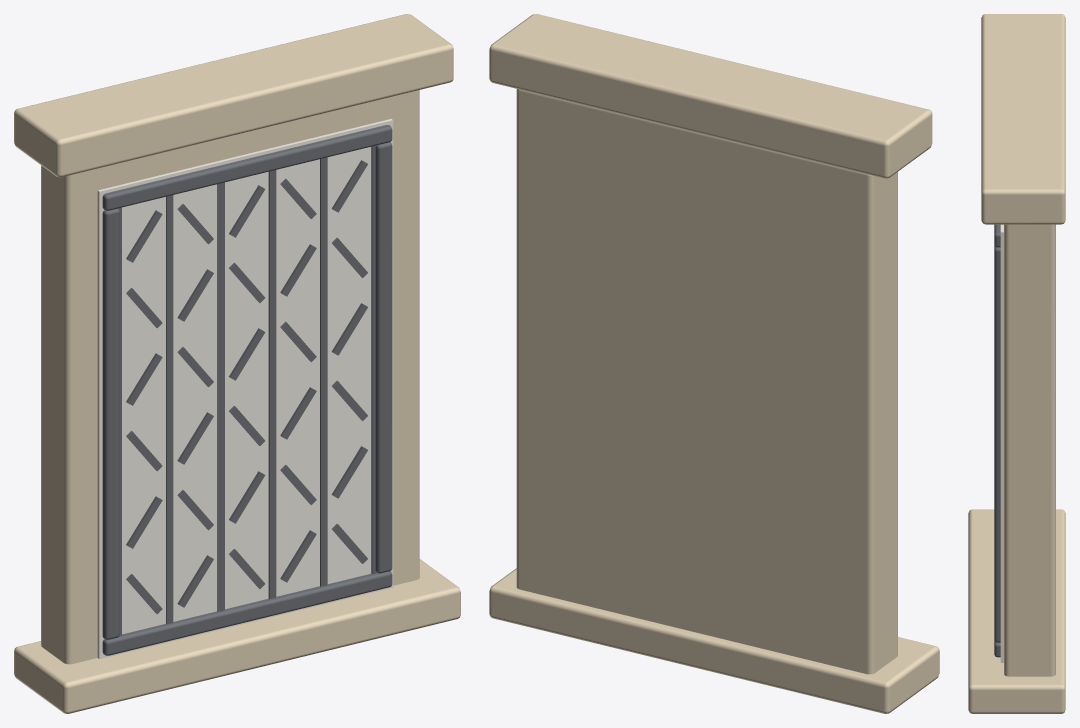
Rendered from desert-mosque-and-madrasa-courtyard-iron-window-grille-17aa98e2.glb.
3 renders of one model, left to right at view 1: azimuth 30°, elevation 25°; view 2: azimuth 150°, elevation 25°; view 3: azimuth 270°, elevation 25°, orthographic. The views are drawn at different scales.
Parts seen in each view (by area): view 1: iron-window-grille; view 2: iron-window-grille; view 3: iron-window-grille.
Part boxes in pixels (x1,y1,x2,y2): iron-window-grille: (14, 14, 460, 713); iron-window-grille: (489, 14, 939, 713); iron-window-grille: (968, 14, 1065, 713).
Size of the model in its own units: 1.3 by 1.78 by 0.3001.
